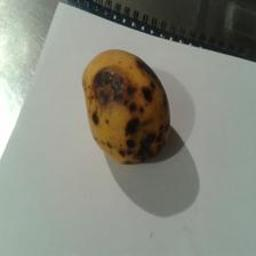Mango Rotten: (73, 45, 172, 168)
